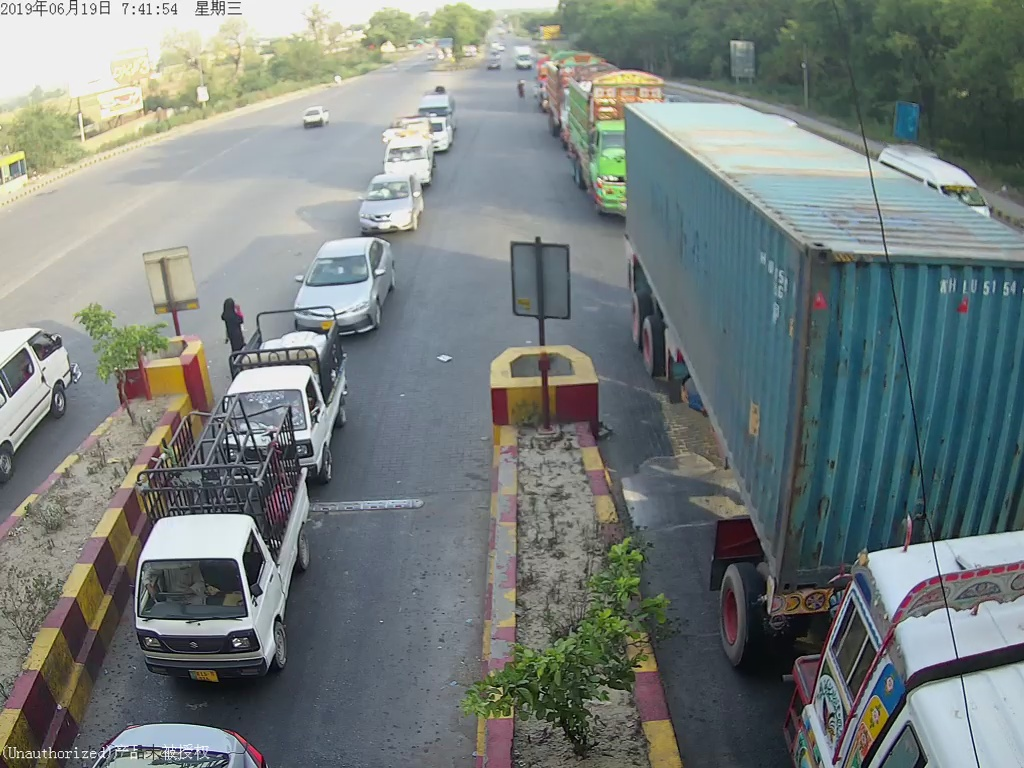Cat-1: (131, 420, 319, 688), (292, 239, 389, 337), (355, 175, 428, 232)
